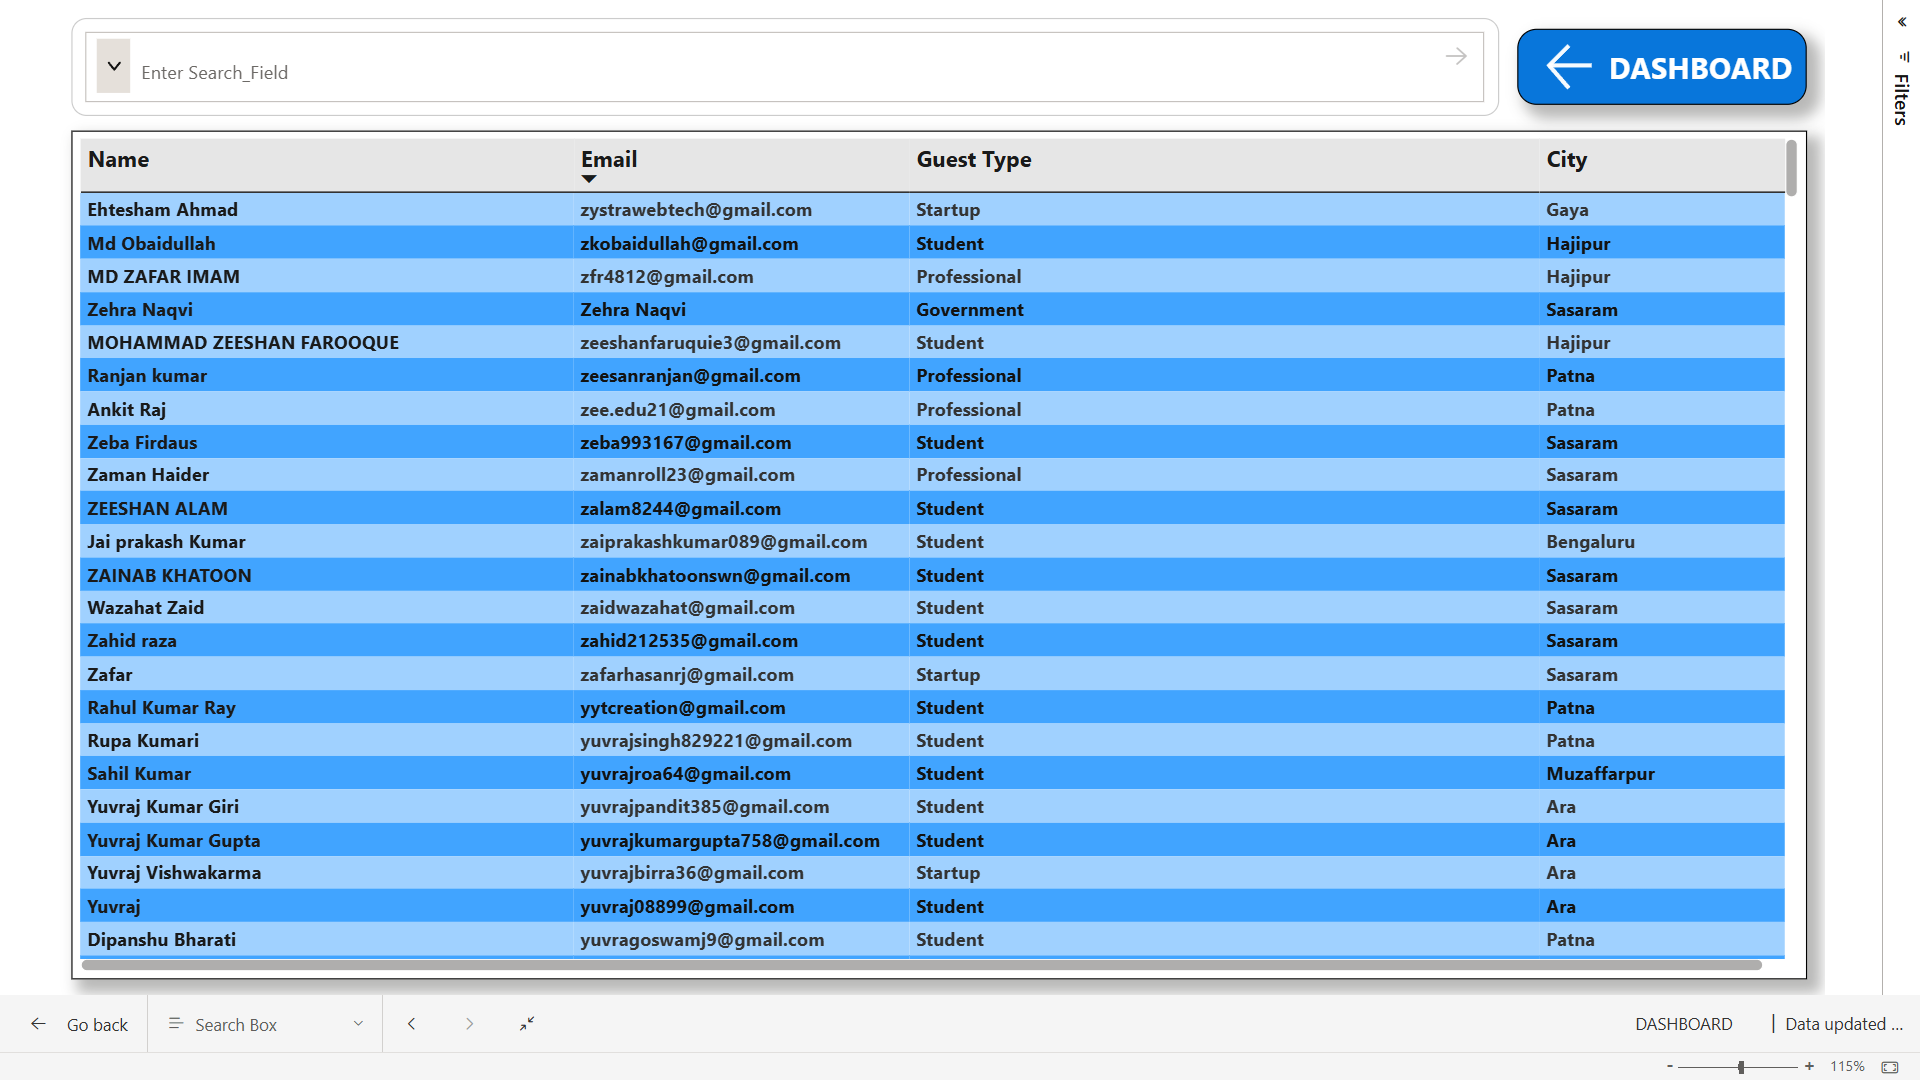

The dashboard page shown, as its layout file describes it:
{"tool":"powerbi","page":{"name":"Search Box","canvas":[1280,720],"ordinal":1},"visuals":[{"type":"tableEx","fields":{"Values":["cleaned_guest_data.Name","cleaned_guest_data.Email","cleaned_guest_data.Guest Type","cleaned_guest_data.City_Dummy"]},"box":[10.4,105.8,1256.4,604],"z":0},{"type":"textSlicer","fields":{"Values":["cleaned_guest_data.Search_Field"]},"box":[10.4,12.7,1033.2,71.3],"z":1},{"type":"actionButton","box":[1057.3,25.3,209.4,47.2],"z":3}]}

Visuals, with their boxes on the page's 1280x720 design canvas (x1, y1, x2, y2). These are canvas units, not pixel positions in the 1920x1080 screenshot, which may show the page scaled, cropped or inside an application window:
tableEx - cleaned_guest_data.Name x cleaned_guest_data.Email: rect(10, 106, 1267, 710)
textSlicer - cleaned_guest_data.Search_Field: rect(10, 13, 1044, 84)
actionButton: rect(1057, 25, 1267, 72)
